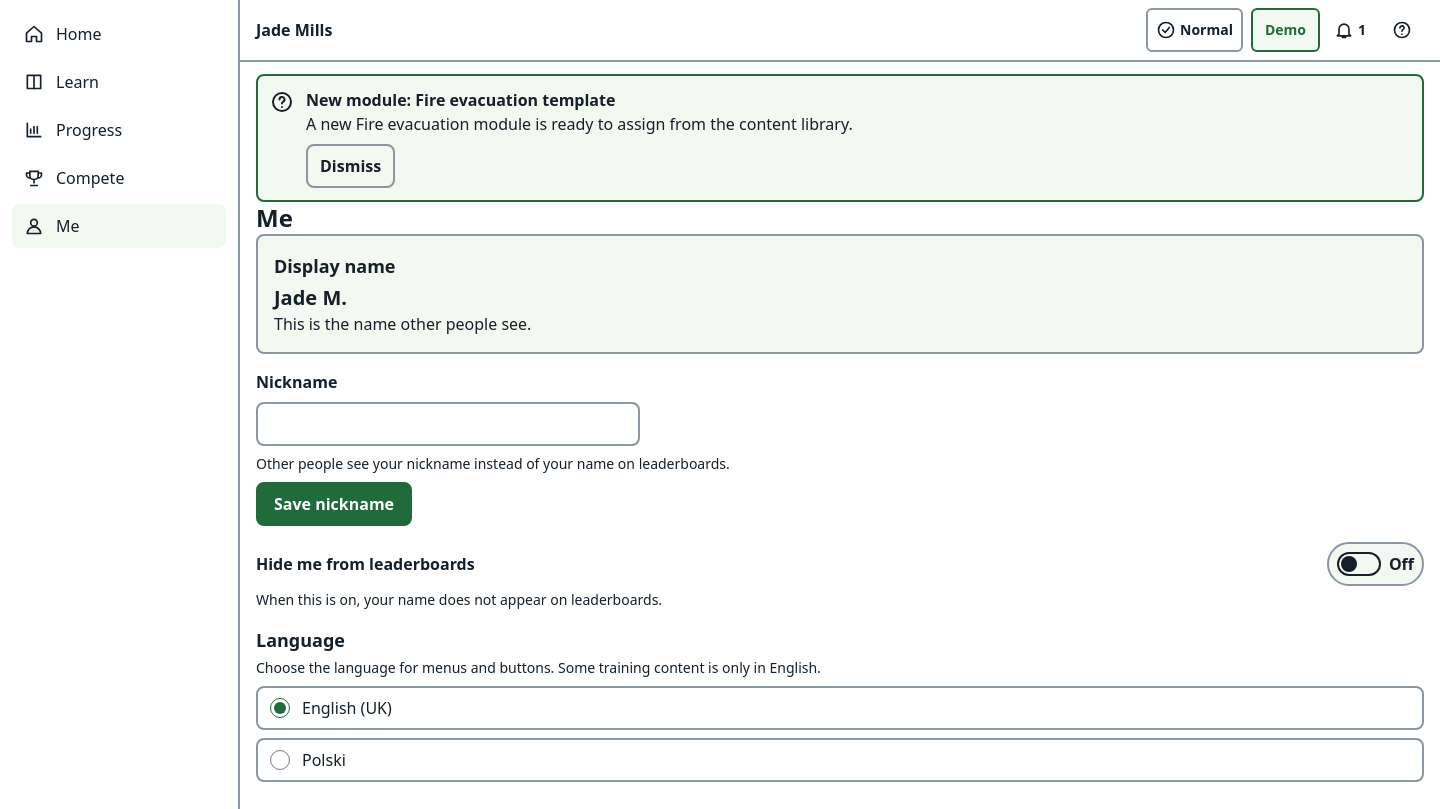
Test: S11 Me › rejects an invalid nickname with an inline error and does not save it
The image size is (1440, 809).
Step 1. Type "!!!" into the field labelled "Nickname" → (448, 424), box [256,402,640,446]
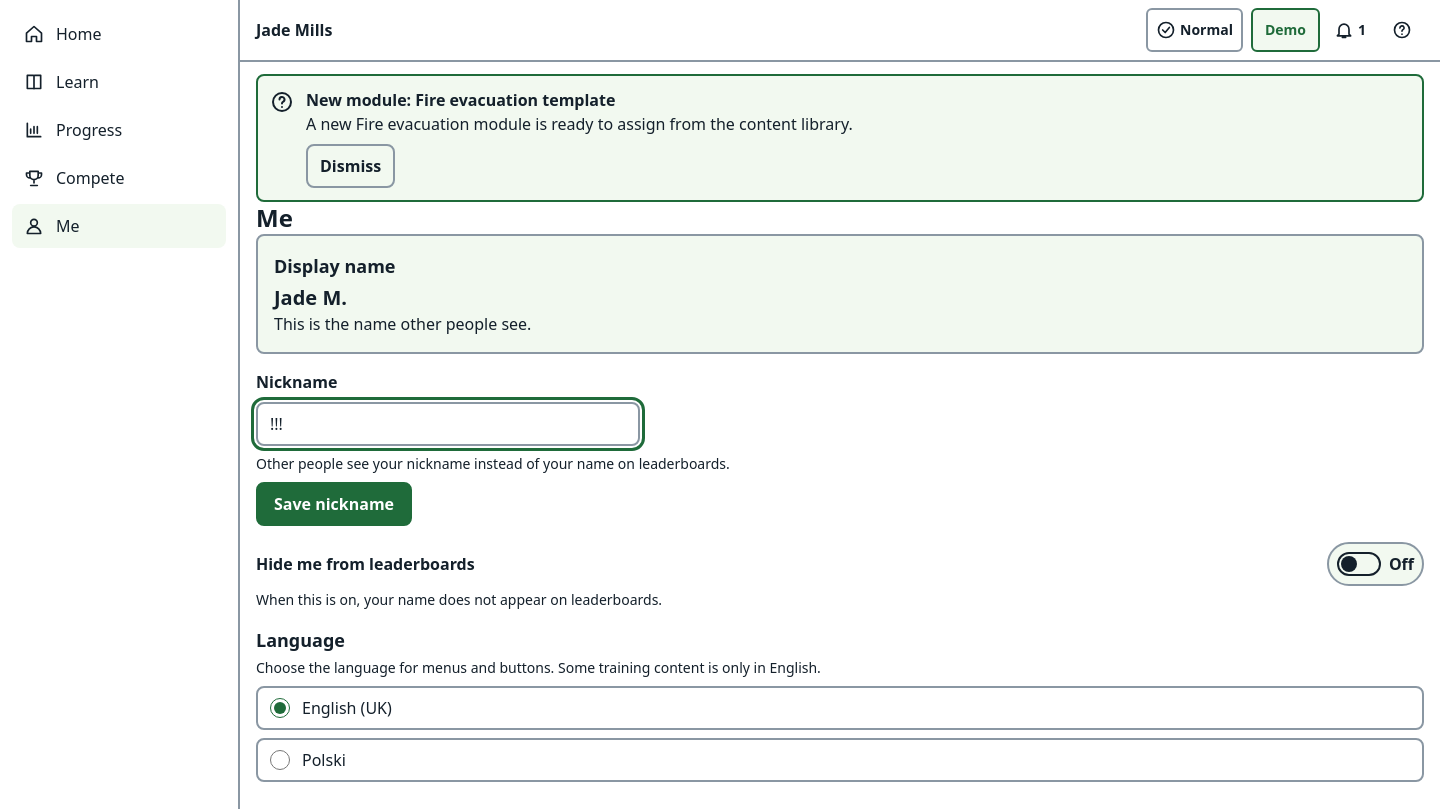
Step 2. Click the button "Save nickname" → (334, 504), box [256,482,412,526]
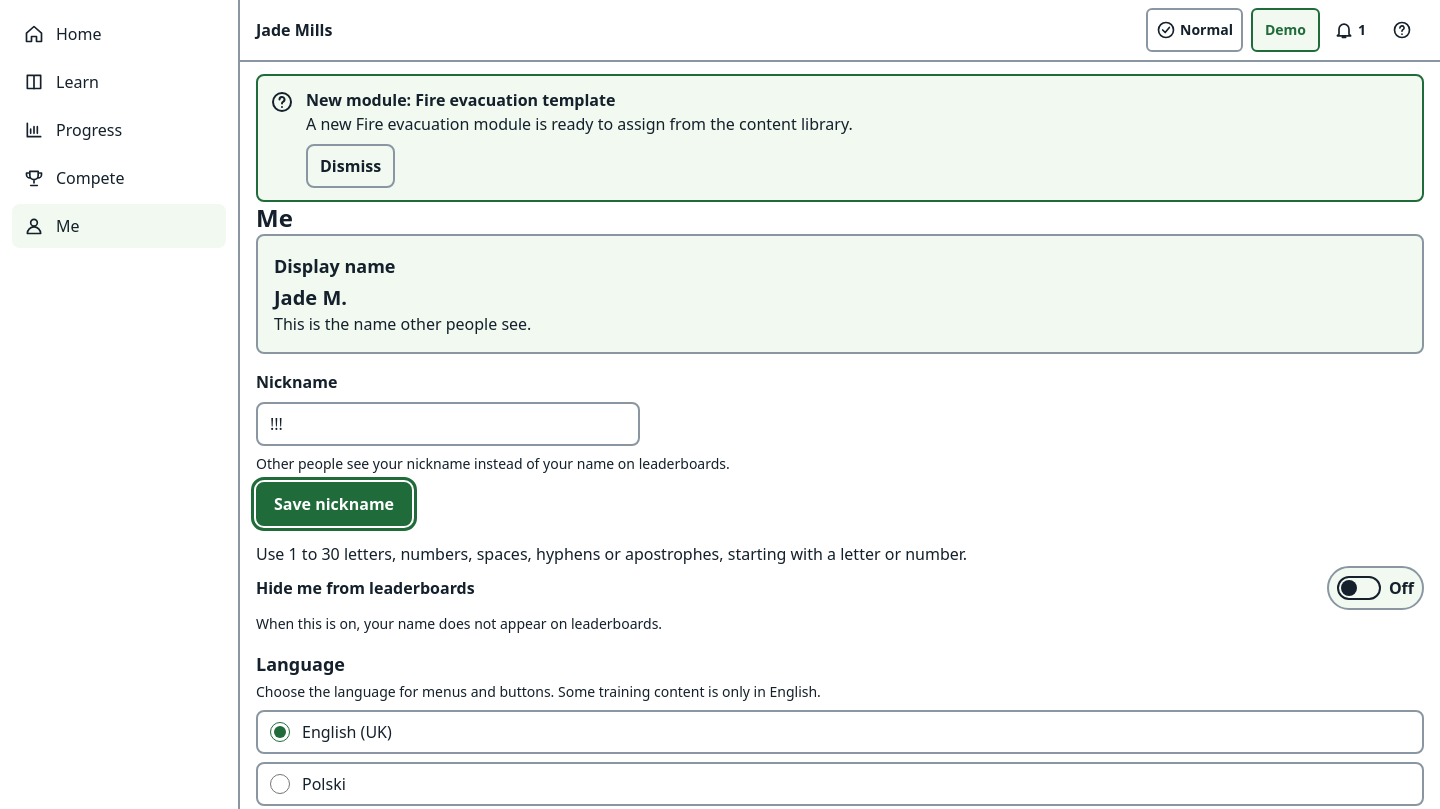
Expected: the message is shown, [256,543,967,565]
